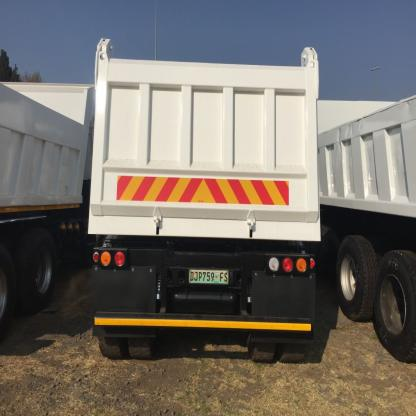dump_truck: (82, 27, 324, 375)
